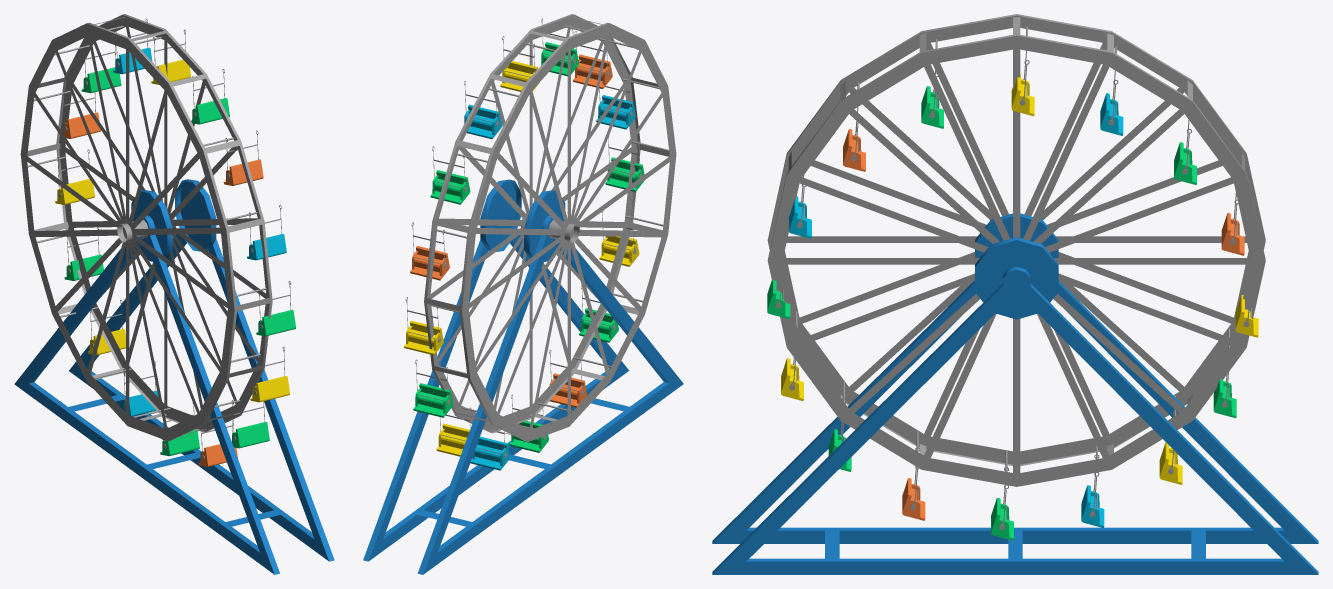
Rendered from Ferris2l.fbx.
3 renders of one model, left to right at view 1: azimuth 30°, elevation 25°; view 2: azimuth 150°, elevation 25°; view 3: azimuth 270°, elevation 25°, orthographic. The views are drawn at different scales.
Visible parts, largest first — view 1: metal, base, chair_5, chair_6, chair_4, chair_2, chair_7, chair_8, chair_13, chair_12, chair_14, chair_9 (+6 smaller); view 2: metal, base, chair_15, chair, chair_14, chair_12, chair_8, chair_13, chair_7, chair_11, chair_16, chair_5 (+6 smaller); view 3: metal, base.
Part boxes in pixels (box(x1,y1,x2,y2)): metal: box(20, 14, 272, 441); base: box(14, 179, 334, 574); chair_5: box(250, 376, 289, 402); chair_6: box(256, 309, 295, 336); chair_4: box(232, 422, 269, 448); chair_2: box(160, 429, 199, 456); chair_7: box(247, 234, 286, 260); chair_8: box(223, 159, 263, 185); chair_13: box(63, 112, 100, 138); chair_12: box(81, 67, 121, 93); chair_14: box(55, 179, 94, 204); chair_9: box(191, 98, 229, 124); metal: box(424, 14, 676, 441); base: box(363, 179, 683, 574); chair_15: box(413, 383, 453, 417); chair: box(470, 436, 509, 470); chair_14: box(404, 320, 443, 355); chair_12: box(430, 170, 470, 204); chair_8: box(573, 54, 612, 88); chair_13: box(410, 246, 449, 280); chair_7: box(596, 95, 635, 129); chair_11: box(464, 104, 501, 139); chair_16: box(436, 423, 469, 456); chair_5: box(599, 236, 639, 266); metal: box(767, 14, 1265, 486); base: box(712, 213, 1318, 574).
Size of the model in its own units: 262 by 1365 by 1449.
